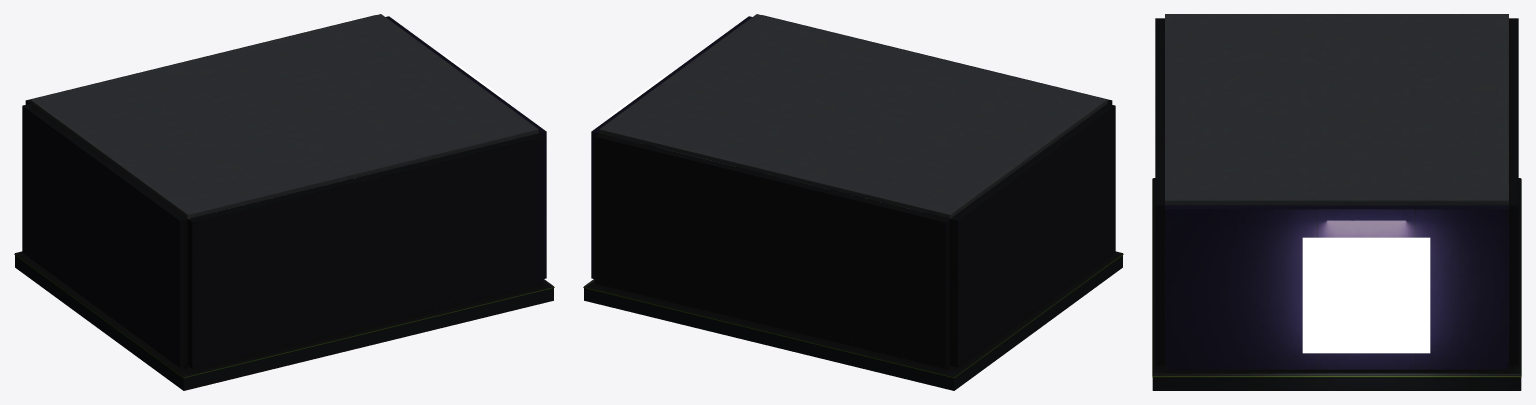
Rendered from library.glb.
3 views of the same model, side by side, from view 1: azimuth 30°, elevation 25°; view 2: azimuth 150°, elevation 25°; view 3: azimuth 270°, elevation 25° (orthographic). The views are drawn at different scales.
Visible parts, largest first — view 1: bake_ceiling, bake_wall_front, bake_wall_left, bake_floor, bake_wall_right; view 2: bake_ceiling, bake_wall_back, bake_wall_left, bake_floor, bake_wall_right; view 3: bake_ceiling, bake_wall_right, win_right0_sky, bake_floor, bake_wall_back, bake_wall_front.
Boxes of the visible parts, left/top/right/bottom form: bake_ceiling: left=30, top=14, right=538, bottom=218; bake_wall_front: left=187, top=133, right=543, bottom=368; bake_wall_left: left=22, top=104, right=187, bottom=367; bake_floor: left=14, top=251, right=554, bottom=390; bake_wall_right: left=386, top=16, right=546, bottom=278; bake_ceiling: left=599, top=14, right=1107, bottom=218; bake_wall_back: left=594, top=133, right=950, bottom=368; bake_wall_left: left=950, top=104, right=1115, bottom=367; bake_floor: left=583, top=251, right=1123, bottom=390; bake_wall_right: left=591, top=16, right=751, bottom=278; bake_ceiling: left=1165, top=14, right=1508, bottom=205; bake_wall_right: left=1165, top=205, right=1508, bottom=369; win_right0_sky: left=1302, top=237, right=1430, bottom=353; bake_floor: left=1152, top=178, right=1521, bottom=390; bake_wall_back: left=1509, top=18, right=1518, bottom=365; bake_wall_front: left=1155, top=18, right=1164, bottom=365.
Bounding box in the file's own units: 9.96 × 4.16 × 7.52.
19 materials, 12 textured.
